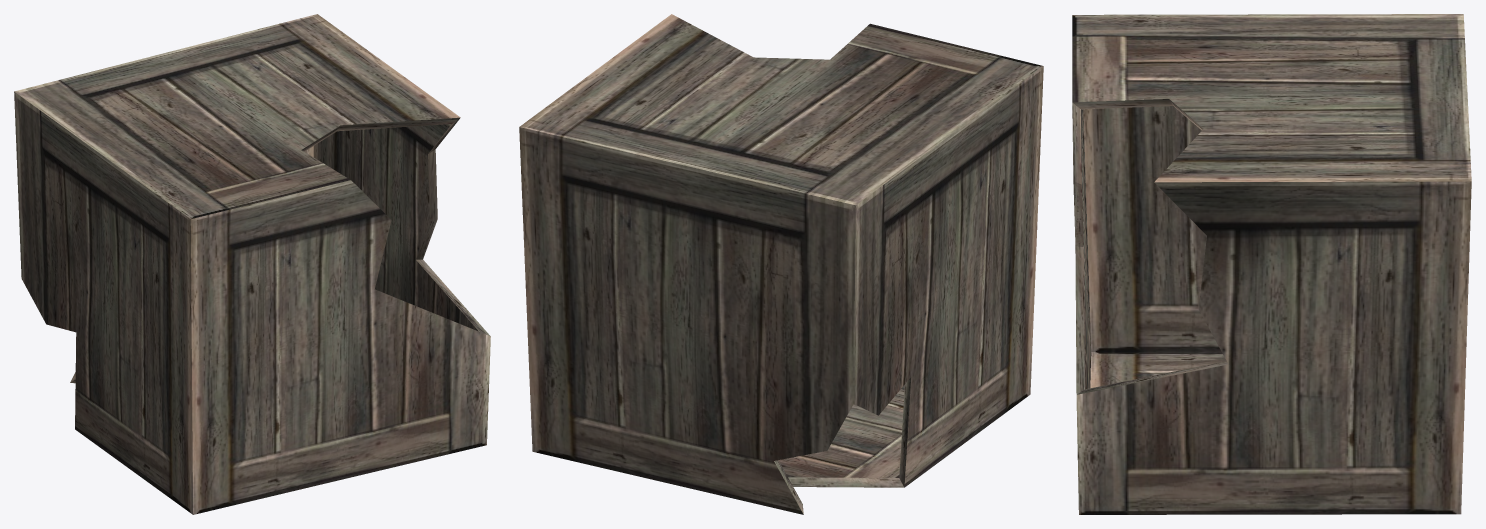
File: pir_m_prp_cnt_crateA_destroyed.fbx
3 renders of one model, left to right at view 1: azimuth 30°, elevation 25°; view 2: azimuth 150°, elevation 25°; view 3: azimuth 270°, elevation 25°, orthographic. The views are drawn at different scales.
Visible parts, largest first — view 1: lod_high; view 2: lod_high; view 3: lod_high.
Boxes of the visible parts, box(x1,y1,x2,y2) form: lod_high: box(14, 14, 490, 514); lod_high: box(519, 14, 1043, 514); lod_high: box(1072, 14, 1471, 514).
Size of the model in its own units: 294 by 274 by 294.
Materials: 1 (1 with a texture image).
